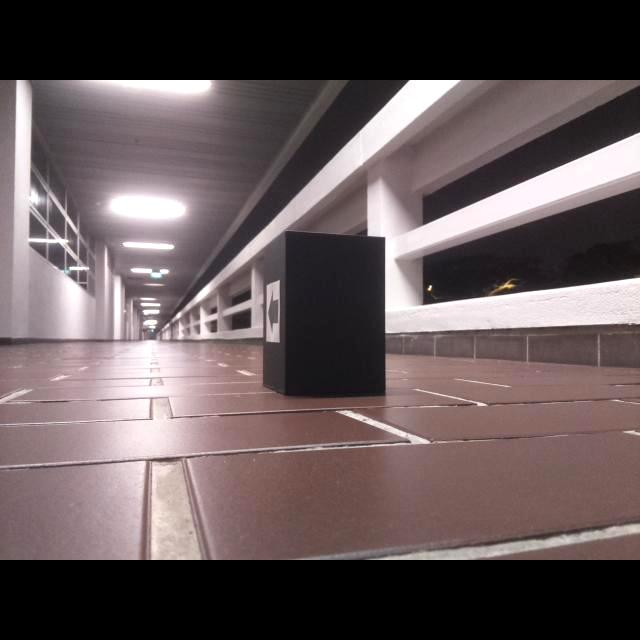LEFT: (267, 288, 278, 333)
